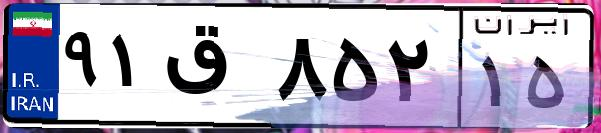1: (475, 38, 525, 113), (110, 28, 158, 98)
2: (385, 28, 445, 110)
5: (330, 28, 385, 110), (525, 38, 570, 115)
8: (270, 28, 330, 110)
9: (57, 26, 110, 100)
ق: (158, 20, 270, 120)
